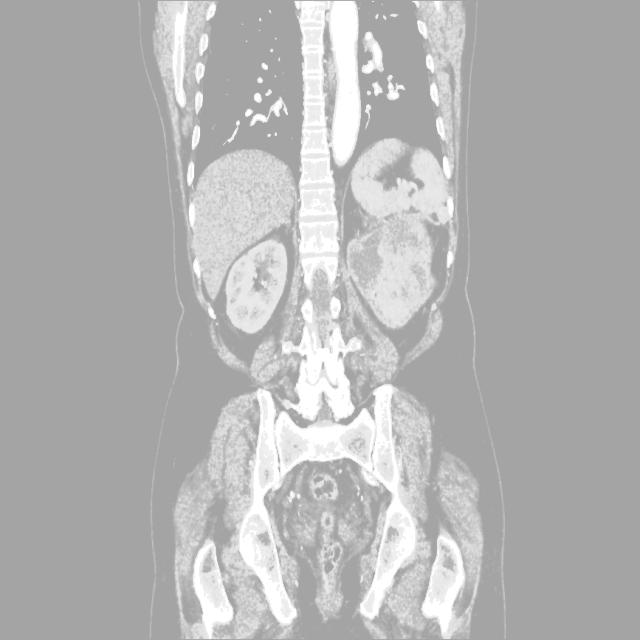TUMOR: (137, 135, 499, 398)
